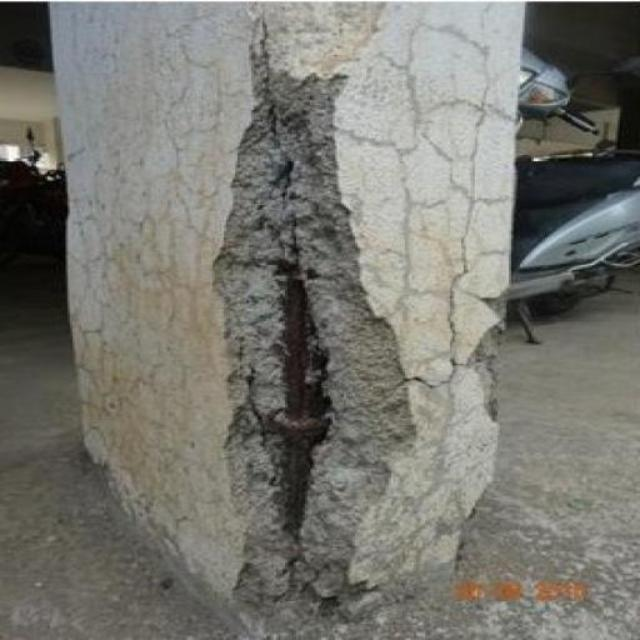D0w0: (214, 32, 417, 629)
